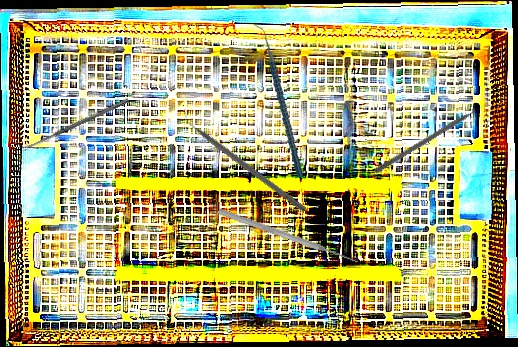Chopper: (177, 107, 312, 213), (239, 23, 316, 178)
Pusher: (216, 206, 360, 267), (373, 102, 489, 175)
Surgical Spoon: (21, 97, 130, 152)
